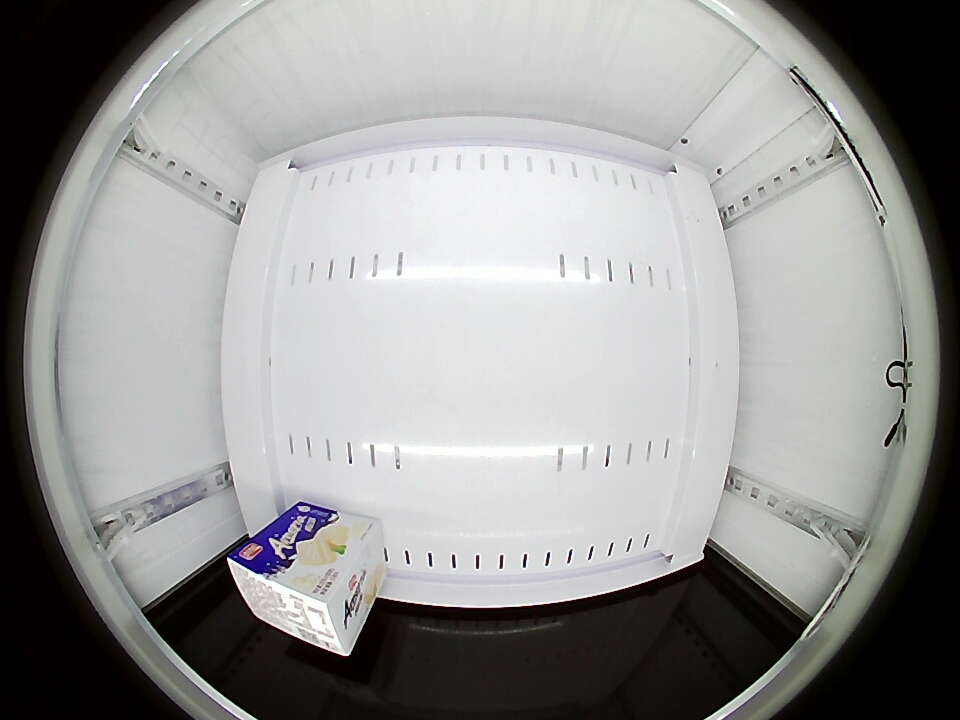meiniye: (228, 537, 364, 657)
